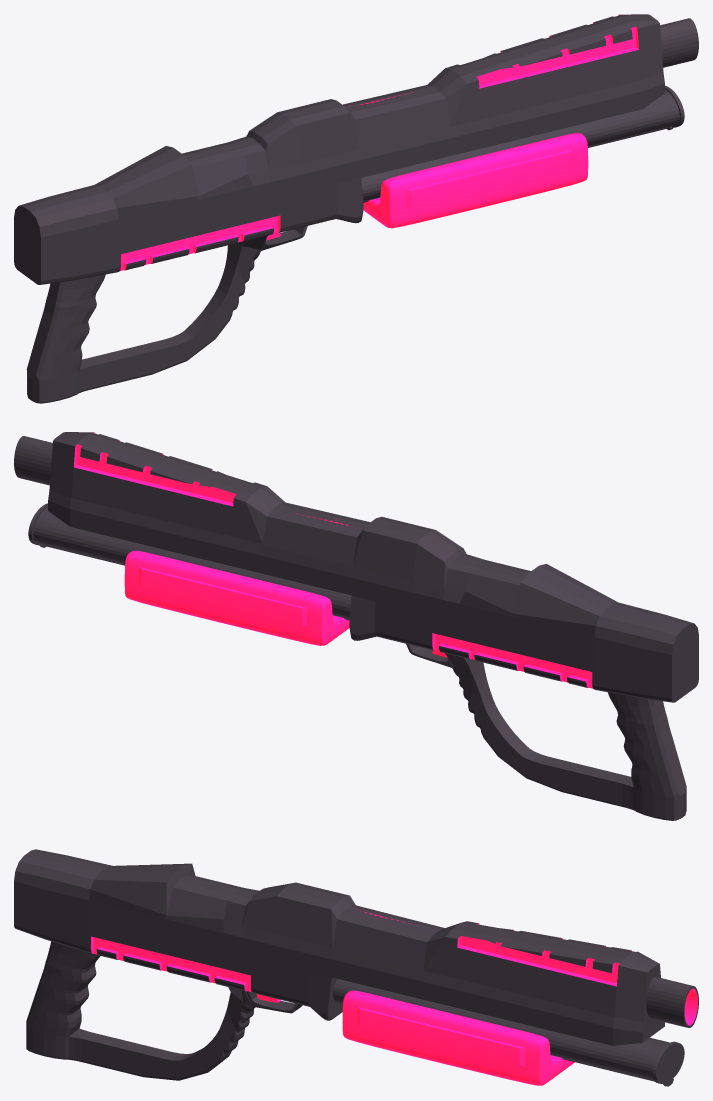
The model's file is qhotgun_fbx.fbx.
3 views of the same model, one above another, from view 1: azimuth 30°, elevation 25°; view 2: azimuth 150°, elevation 25°; view 3: azimuth 330°, elevation 25° (orthographic).
Visible parts, largest first — view 1: shotgun, recharge; view 2: shotgun, recharge; view 3: shotgun, recharge.
Boxes of the visible parts, x1,y1,x2,y2 form: shotgun: (14, 14, 698, 403); recharge: (363, 133, 588, 228); shotgun: (14, 432, 698, 820); recharge: (124, 550, 349, 645); shotgun: (14, 849, 698, 1086); recharge: (342, 990, 574, 1085).
Size of the model in its own units: 521 by 177 by 70.48.
